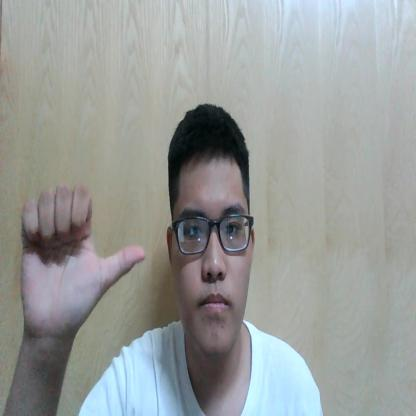left: (20, 183, 145, 327)
